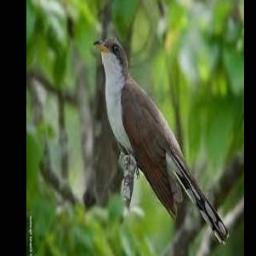Cuckoo: (94, 37, 230, 246)
